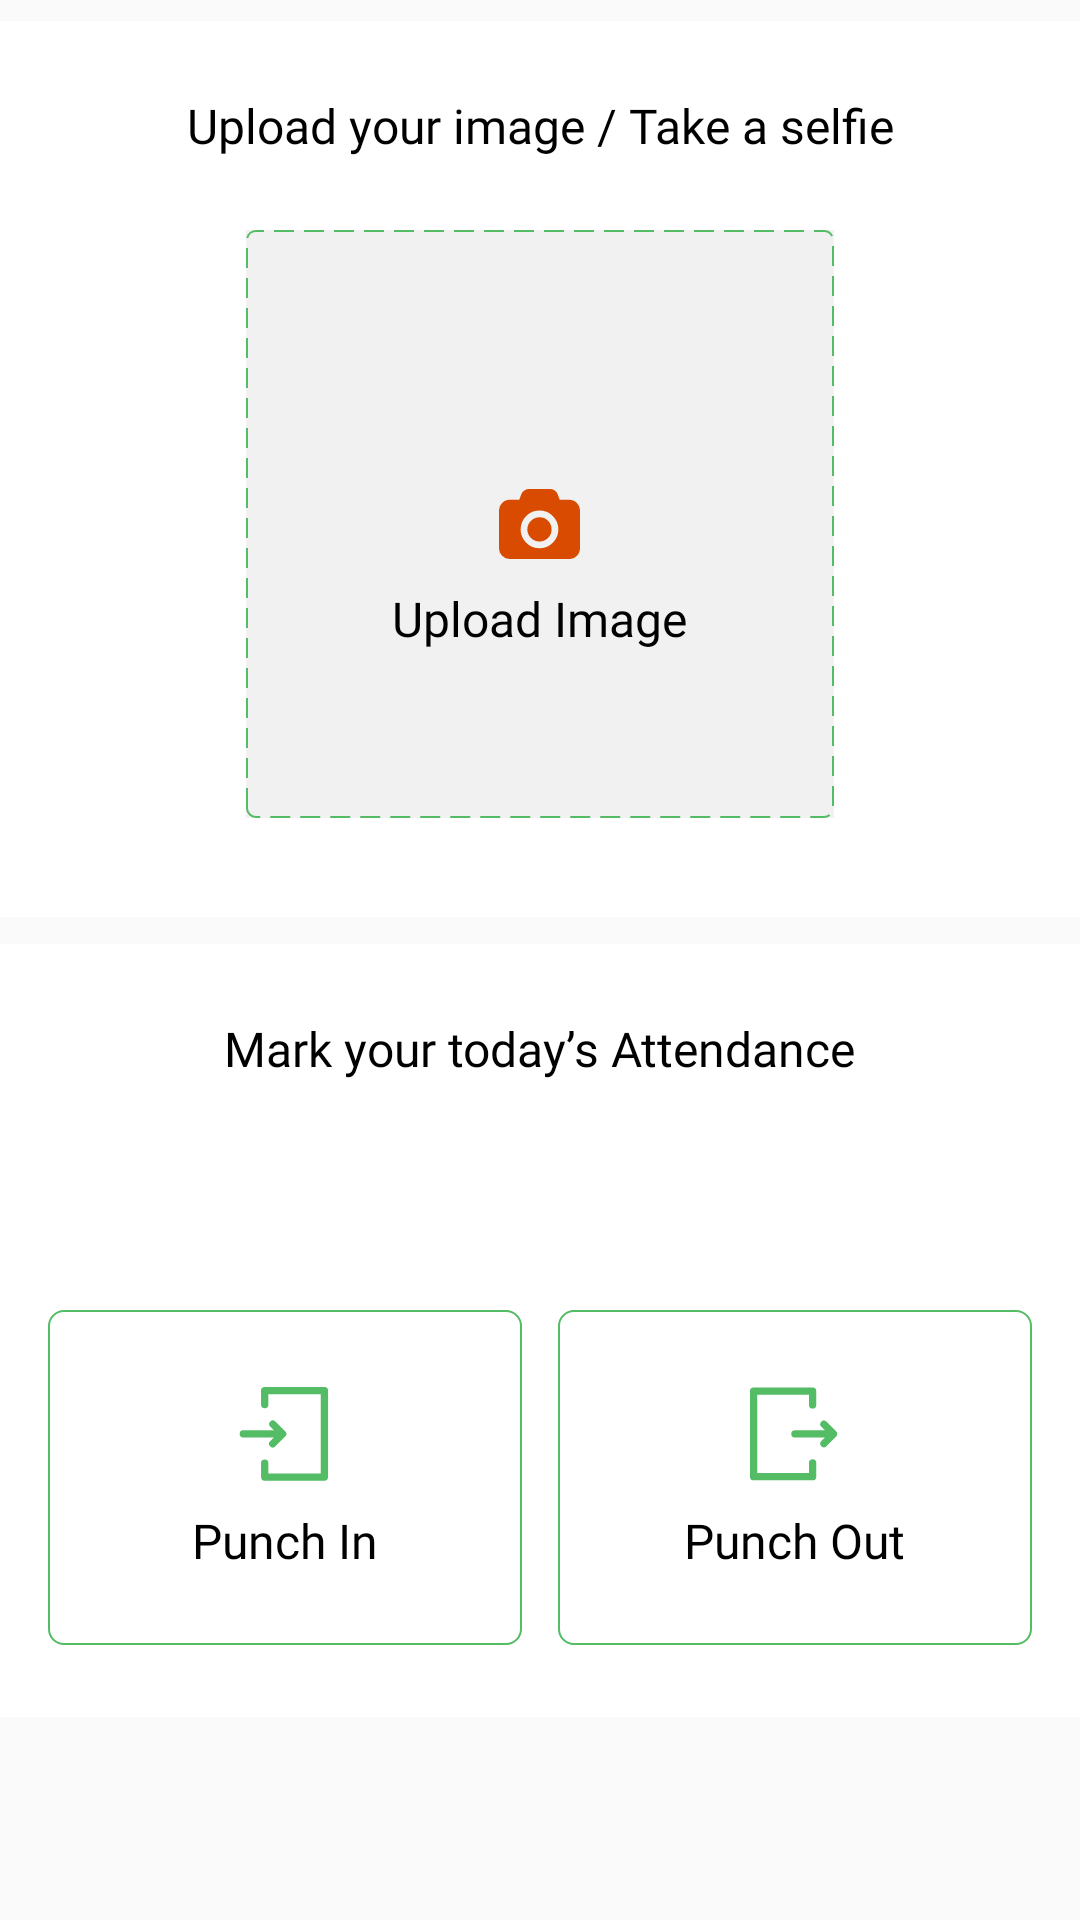

Icons on this 1080 x 1920 Android screen, each with its box as {"x1": x1, "y1": y1, "x2": x2, "y2": y2}:
camera: {"x1": 499, "y1": 489, "x2": 580, "y2": 559}
